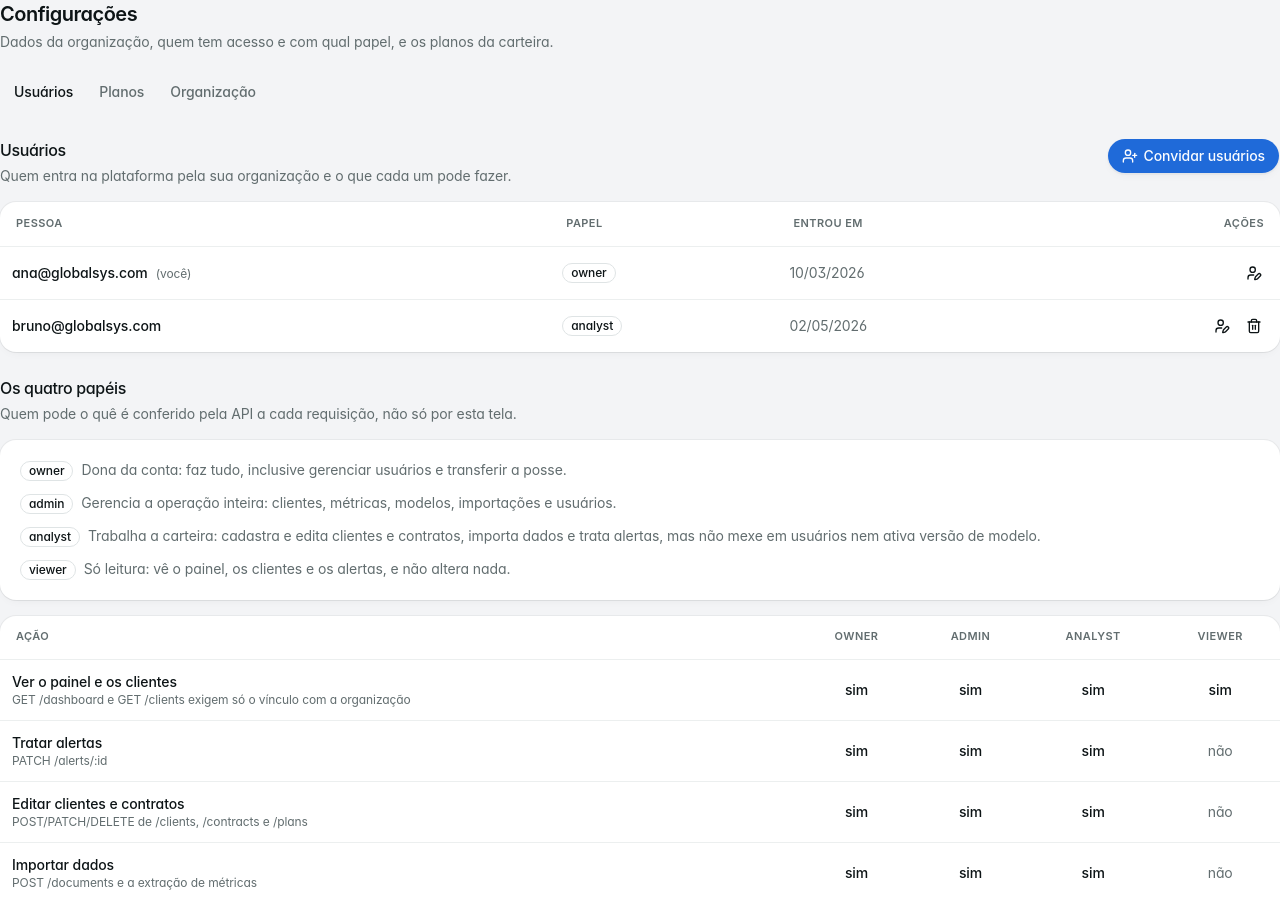
Configurações — aba Planos › mostra clientes, valor médio e SLA de cada plano vindos da API
The image size is (1280, 900).
Click the tab "Planos": x=122, y=92 [88,79,155,105]
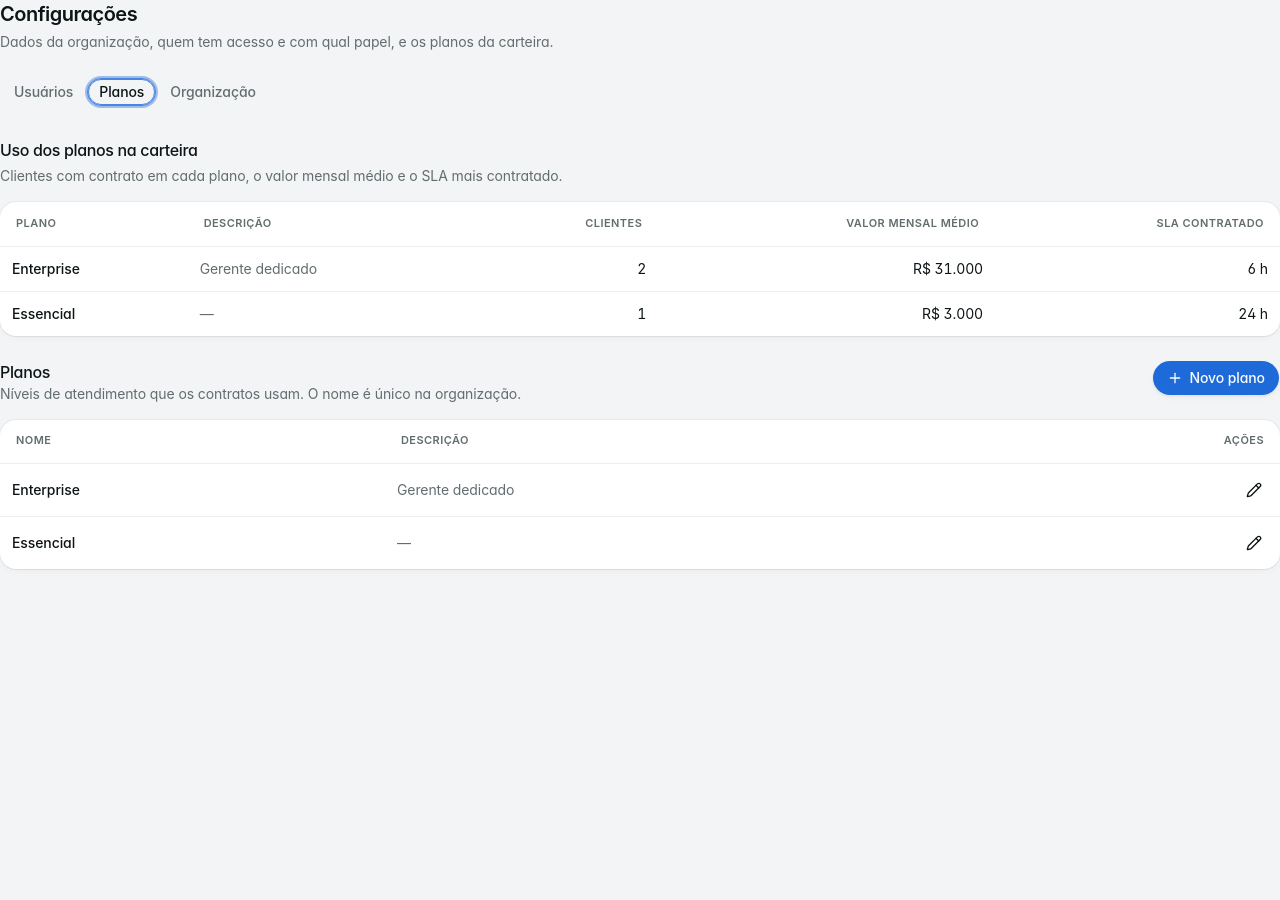
Check: the cell "Enterprise" in the row of "R$ 31.000" is shown, box [12,260,80,276]
Check: the cell "Gerente dedicado" in the row of "R$ 31.000" is shown, box [200,260,317,276]
Check: the cell "R$ 31.000" is shown, box [658,246,995,291]
